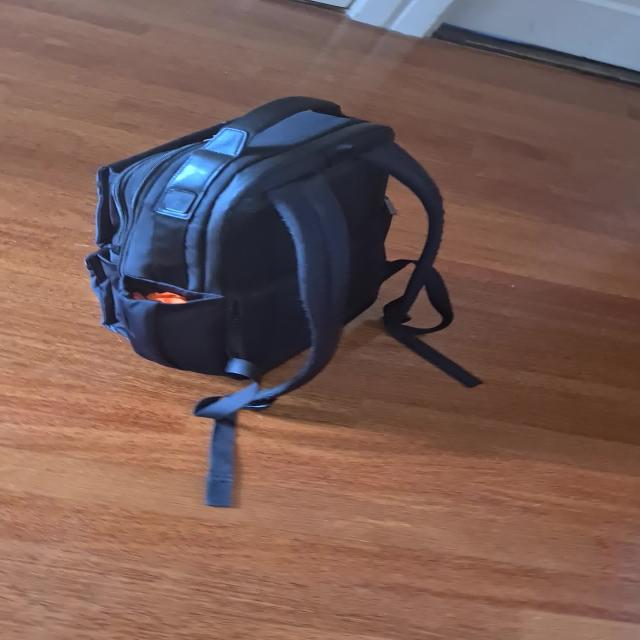backpack: (72, 83, 440, 390)
